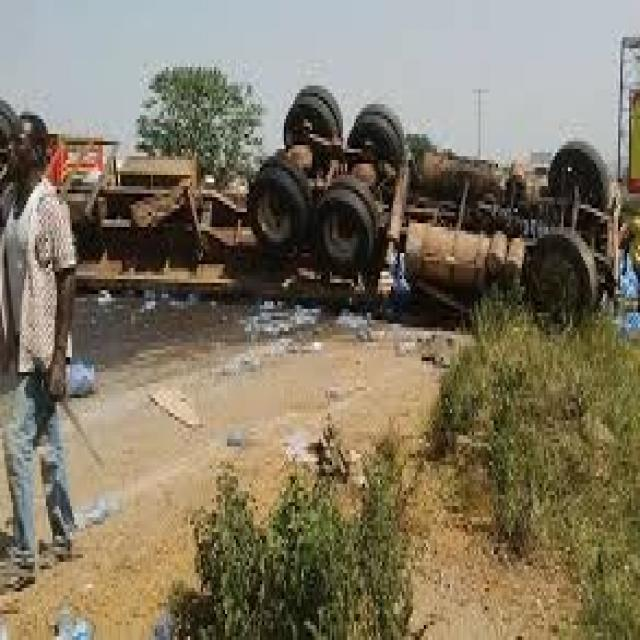accident: (86, 74, 640, 386)
